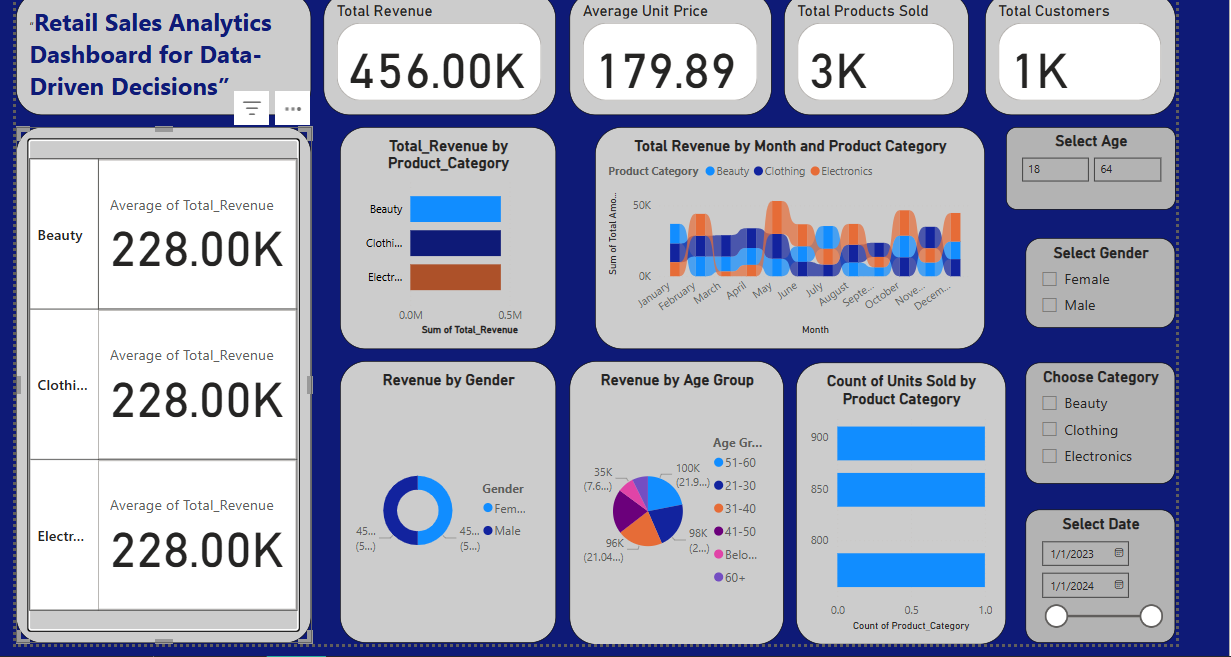

Layout of this report page (visuals, bound fields, positions):
{"tool":"powerbi","page":{"name":"Page 1","canvas":[1280,720],"ordinal":0},"visuals":[{"type":"cardVisual","title":"Total Revenue","fields":{"Data":["Sum(retailschema gender_revenue_summary.Total_Revenue)"]},"box":[339.6,0,256.8,135.8],"z":0},{"type":"cardVisual","title":"Total Products Sold","fields":{"Data":["Sum(retail_sales_dataset.Quantity)"]},"box":[848.1,0,203.7,135.8],"z":1000},{"type":"cardVisual","title":"Total  Customers","fields":{"Data":["CountNonNull(retailschema retail_sales_dataset.Customer_ID)"]},"box":[1070.1,0,210.4,135.8],"z":2000},{"type":"cardVisual","title":"Average Unit Price","fields":{"Data":["Avg(retailschema retail_sales_dataset.Price_Per_Unit)"]},"box":[611.2,0,223.6,135.8],"z":3000},{"type":"barChart","title":" Total_Revenue by Product_Category","fields":{"Category":["retailschema retail_sales_dataset.Product_Category"],"Y":["Sum(retailschema gender_revenue_summary.Total_Revenue)"]},"box":[357.8,149.1,238.5,245.2],"z":4000},{"type":"barChart","title":"Count of Units Sold by Product Category","fields":{"Category":["retailschema sales_summary_by_category.Total_Units_Sold"],"Y":["CountNonNull(retailschema sales_summary_by_category.Product_Category)"]},"box":[861.4,409.2,231.9,311.4],"z":5000},{"type":"donutChart","title":"Revenue by Gender","fields":{"Category":["retailschema retail_sales_dataset.Gender"],"Y":["Sum(retail_sales_dataset.Total Amount)"]},"box":[372.3,410.1,224.9,308],"z":6000},{"type":"ribbonChart","title":"Total Revenue by Month and Product Category","fields":{"Category":["retail_sales_dataset.Date.Variation.Date Hierarchy.Month"],"Y":["Sum(retail_sales_dataset.Total Amount)"],"Series":["retail_sales_dataset.Product Category"]},"box":[639.4,149.1,430.7,245.2],"z":7000},{"type":"pieChart","title":"Revenue by Age Group","fields":{"Category":["retail_sales_dataset.Age Group"],"Y":["Sum(retail_sales_dataset.Total Amount)"]},"box":[611.2,407.5,236.9,313.1],"z":8000},{"type":"textbox","box":[0,0,326.3,135.8],"z":9000},{"type":"slicer","title":"Select Age","fields":{"Values":["retail_sales_dataset.Age"]},"box":[1093.3,149.1,187.2,91.1],"z":10000},{"type":"slicer","title":"Select Gender","fields":{"Values":["retailschema gender_revenue_summary.Gender"]},"box":[1114.8,271.7,165.6,99.4],"z":11000},{"type":"slicer","title":"Choose Category","fields":{"Values":["retail_sales_dataset.Product Category"]},"box":[1114.8,409.2,165.6,134.2],"z":12000},{"type":"slicer","title":"Select Date","fields":{"Values":["retail_sales_dataset.Date"]},"box":[1114.8,571.5,165.6,147.4],"z":13000},{"type":"cardVisual","title":"Total Revenue of \"Beauty\"","fields":{"Data":["Sum(retail_sales_dataset.Total Amount)"]},"box":[0,164.4,340.2,170.1],"z":14000},{"type":"cardVisual","title":"Total Revenue of \"Electronics\"","fields":{"Data":["Sum(retailschema retail_sales_dataset.Total_Amount)"]},"box":[0,565,340,150],"z":15000},{"type":"cardVisual","title":"Total Revenue of \"Clothing\"","fields":{"Data":["Sum(retailschema retail_sales_dataset.Total_Amount)"]},"box":[0,359.1,340.2,185.2],"z":16000}]}

Visuals, with their boxes in screenshot pixels (x1, y1, x2, y2):
"Total Revenue" cardVisual: region(322, 0, 553, 113)
"Total Products Sold" cardVisual: region(779, 0, 963, 113)
"Total  Customers" cardVisual: region(979, 0, 1169, 113)
"Average Unit Price" cardVisual: region(566, 0, 767, 113)
" Total_Revenue by Product_Category" barChart: region(338, 125, 553, 345)
"Count of Units Sold by Product Category" barChart: region(791, 359, 1000, 639)
"Revenue by Gender" donutChart: region(351, 360, 554, 637)
"Total Revenue by Month and Product Category" ribbonChart: region(592, 125, 979, 345)
"Revenue by Age Group" pieChart: region(566, 357, 779, 639)
textbox: region(16, 0, 310, 113)
"Select Age" slicer: region(1000, 125, 1169, 207)
"Select Gender" slicer: region(1019, 235, 1169, 324)
"Choose Category" slicer: region(1019, 359, 1169, 480)
"Select Date" slicer: region(1019, 505, 1169, 637)
"Total Revenue of "Beauty"" cardVisual: region(16, 138, 322, 291)
"Total Revenue of "Electronics"" cardVisual: region(16, 499, 322, 634)
"Total Revenue of "Clothing"" cardVisual: region(16, 314, 322, 480)
